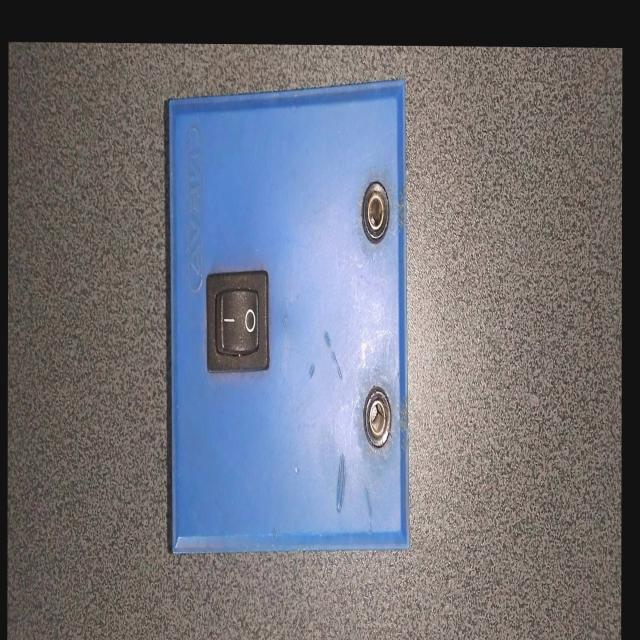ON-OFF Switch: (153, 77, 422, 581)
